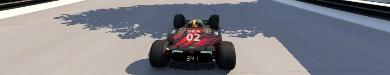Car: (147, 13, 236, 69)
